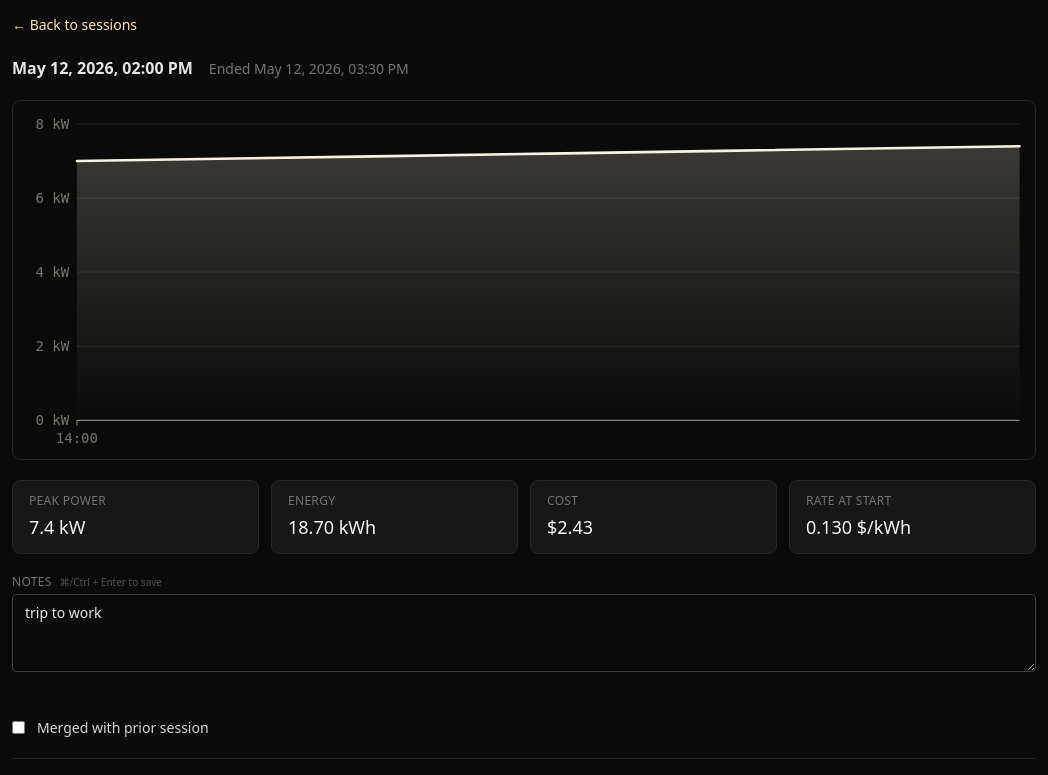
Test case: AdminSessionDetail › saves notes via PATCH after debounce when textarea blurs
Replace the text in the text box with placeholder "Add a note about this session…" with "updated note": (524,633) [12,594,1036,672]
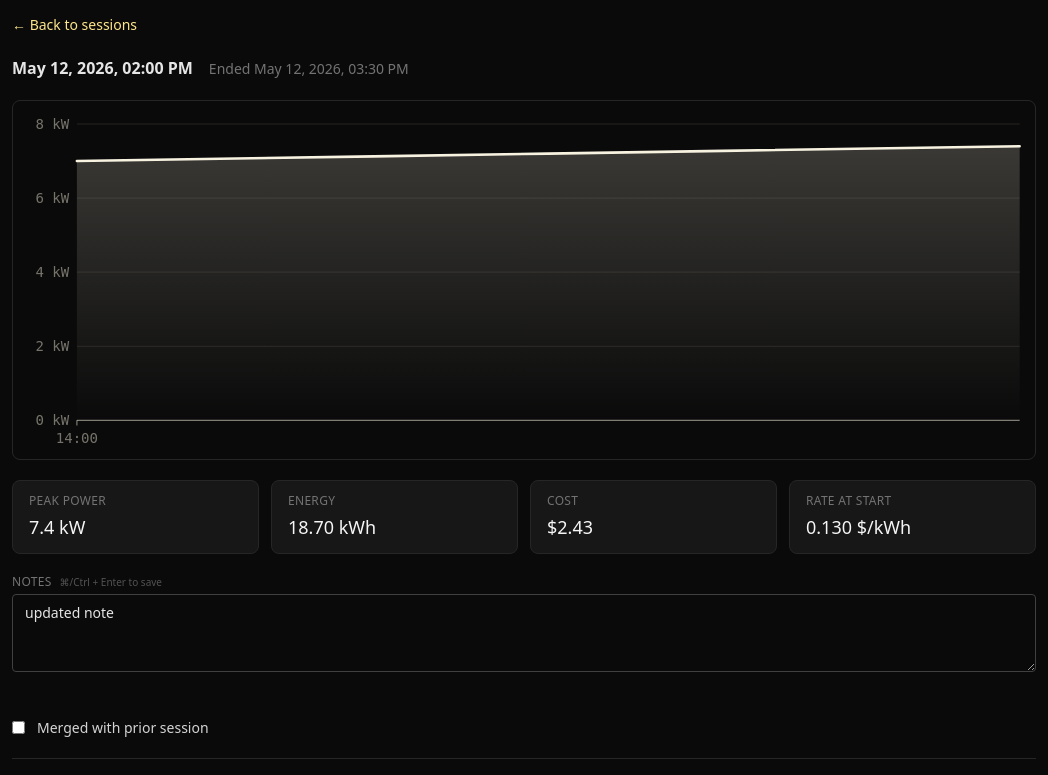
Leave the text box with placeholder "Add a note about this session…", box [12,594,1036,672]
Wait 600 ms
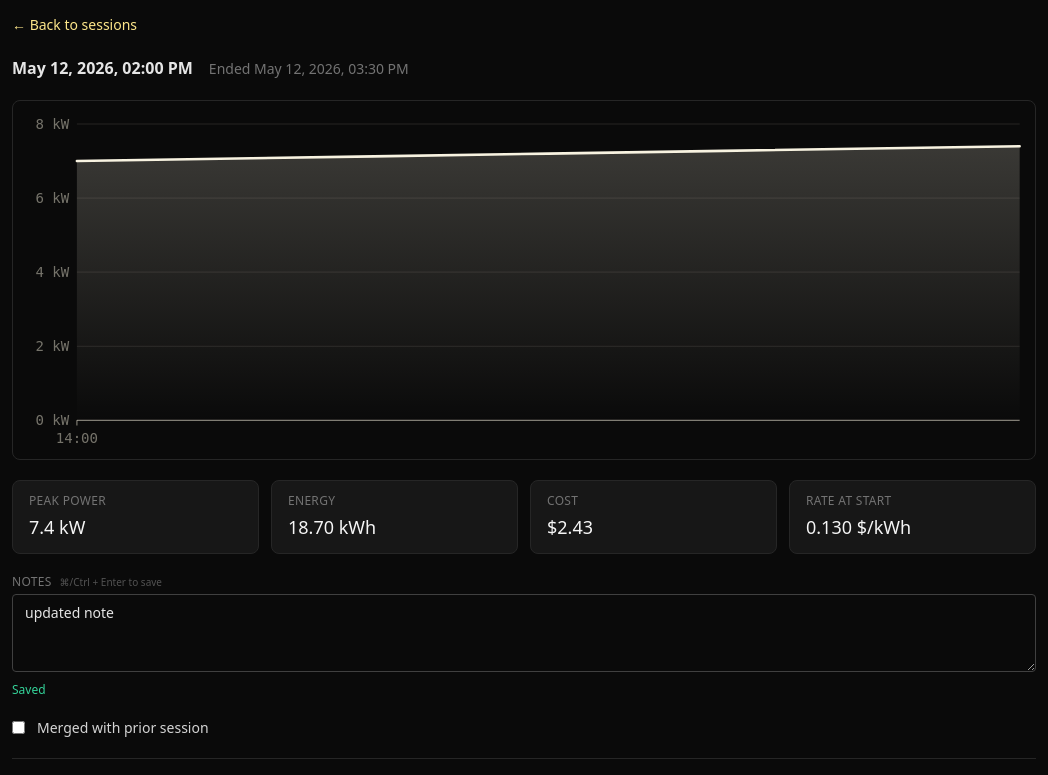
Check: the text "Saved" is shown, box [12,681,46,698]
